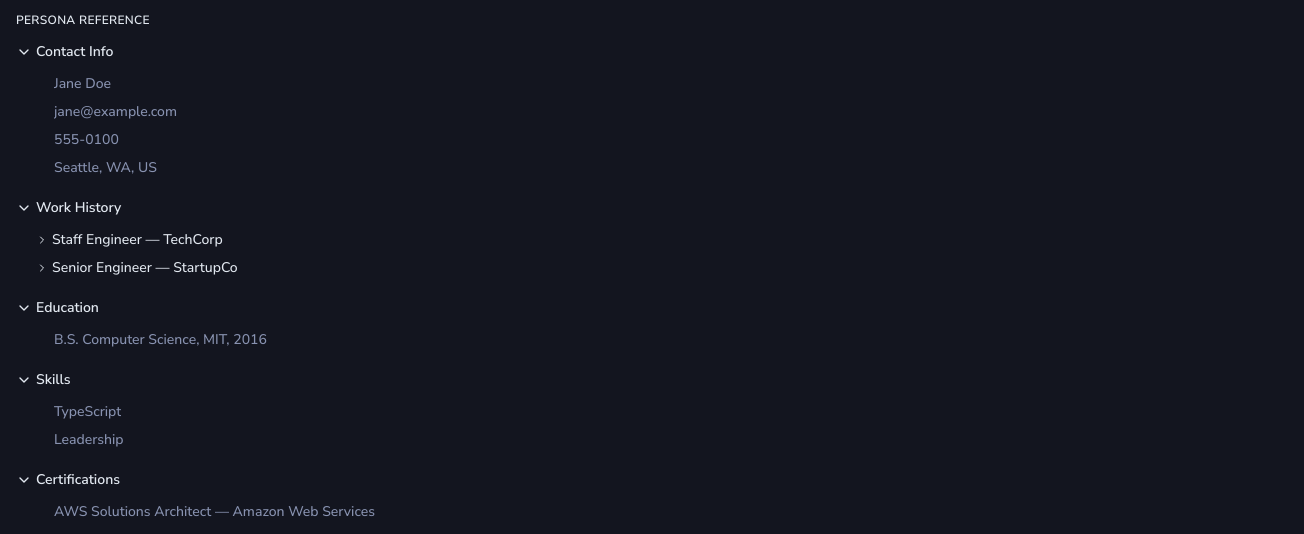
Scenario: PersonaReferencePanel › collapsible sections › clicking a collapsed section expands it
Click the button "Contact Info".
click(75, 52)  # box [12, 36, 1292, 68]
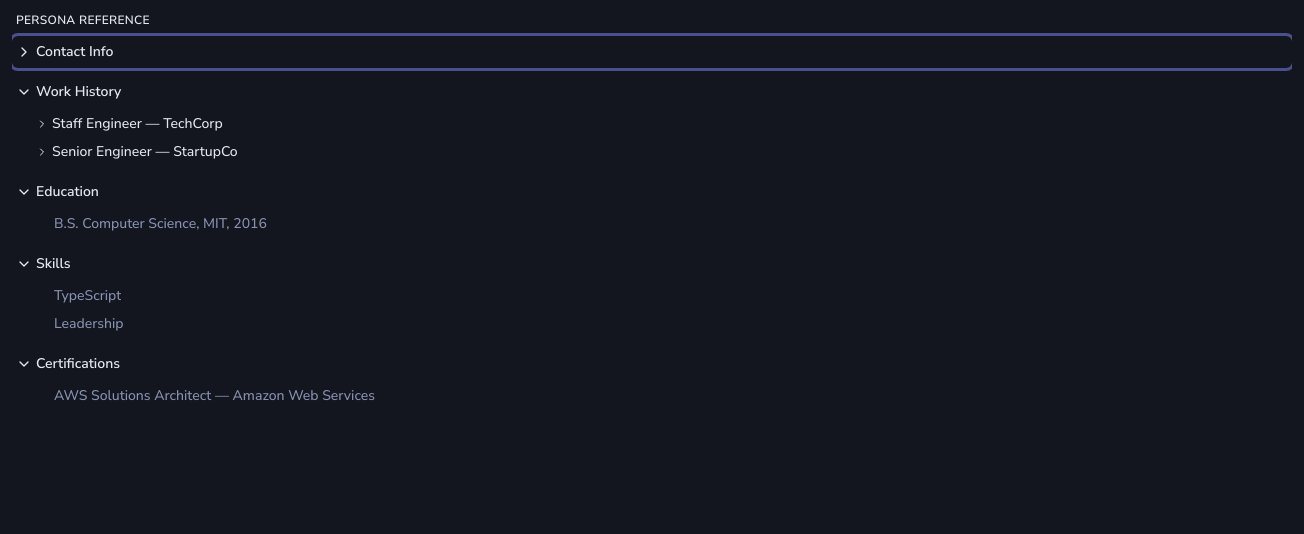
Expected: the button "Contact Info" is collapsed
Click the button "Contact Info".
click(75, 52)  # box [12, 36, 1292, 68]
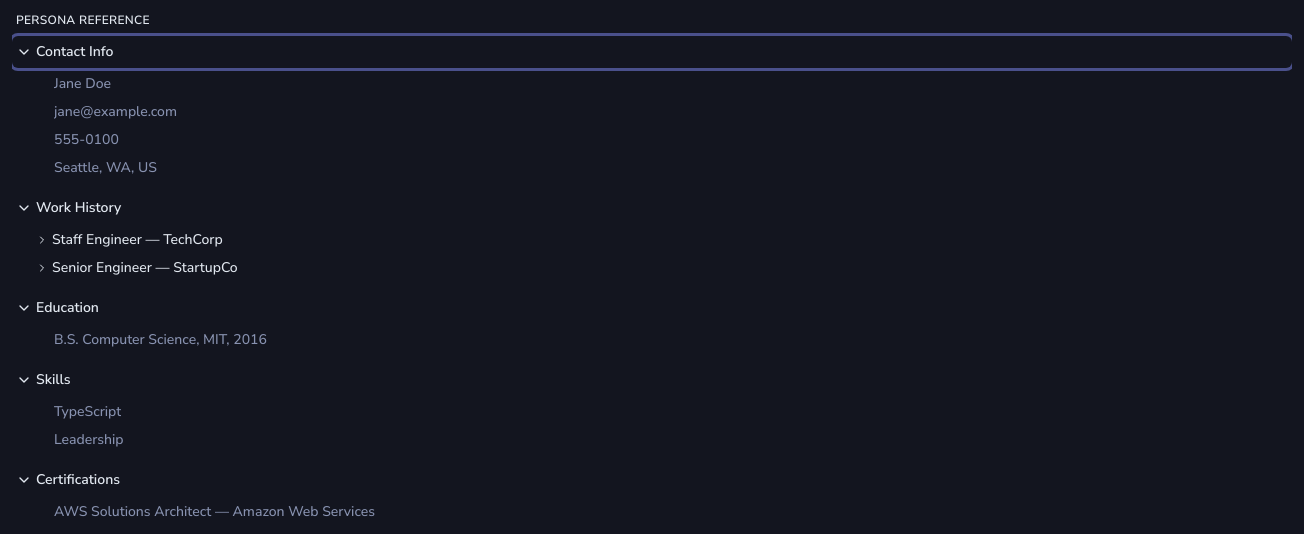
Expected: the button "Contact Info" is expanded, [12, 36, 1292, 68]
